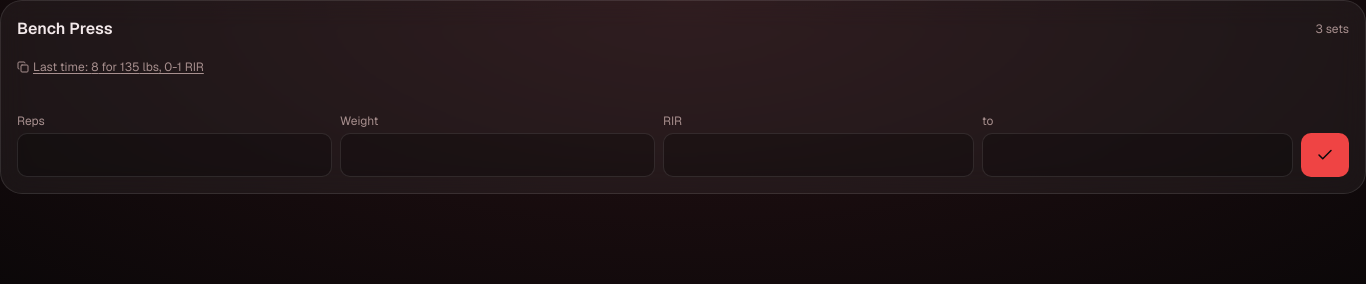
ExerciseLogCard quick fill › fills both boxes when the previous set recorded a range
Click the button with aria-label "fill set 1". click: (110, 67)
box: [17,45,204,89]
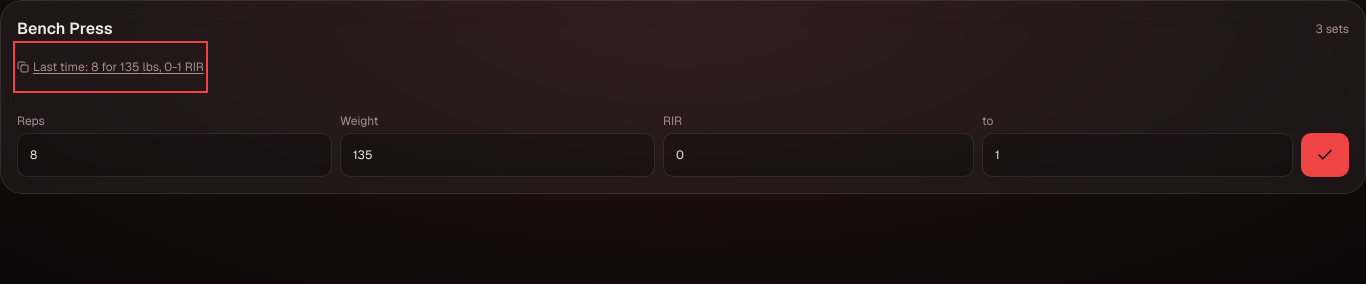
Expected: the field named "to, highest reps in reserve" holds "1", [982,133,1293,177]
Now the field labelled "RIR" holds "0", box [663,133,974,177]
